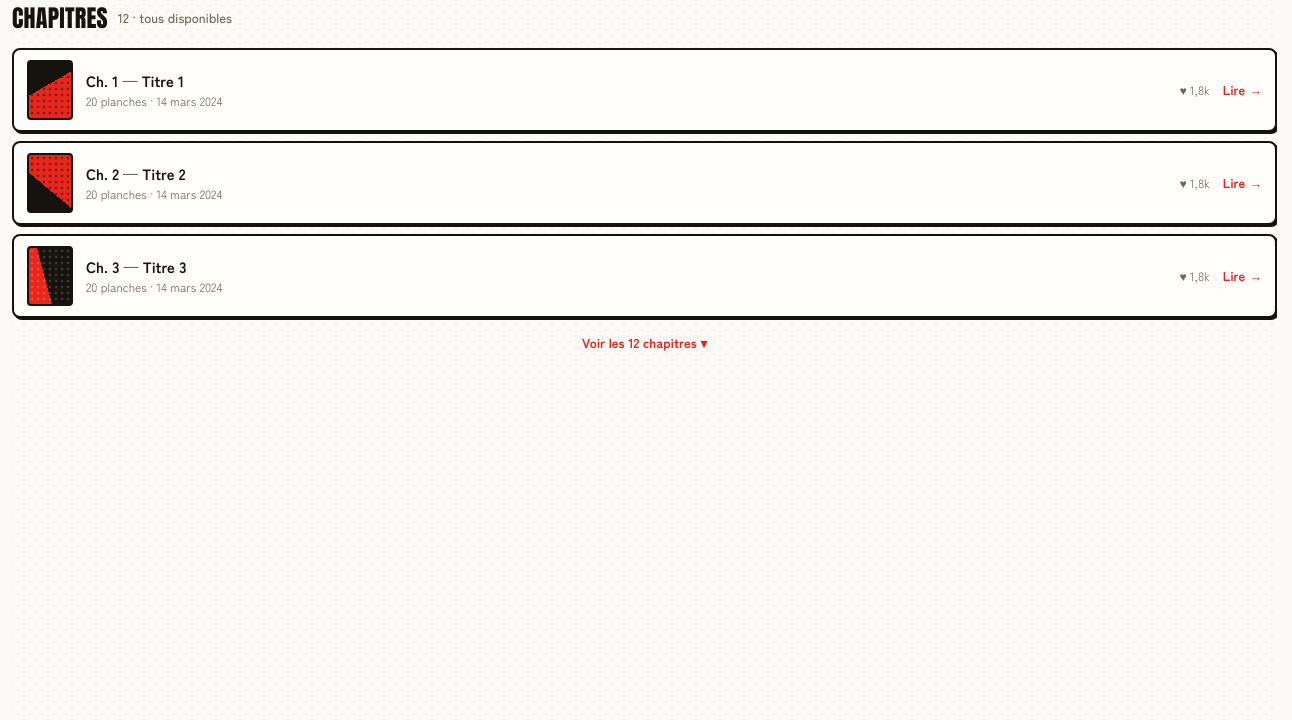
Test case: ChapterList (DR-3 FE-4) › the toggle has aria-expanded, flips, and fetches the next page while expanding
The image size is (1292, 720).
Step 1. Click the button "Voir les 12 chapitres ▾" → (644, 343), box [12,327,1277,358]
(page scrolled)
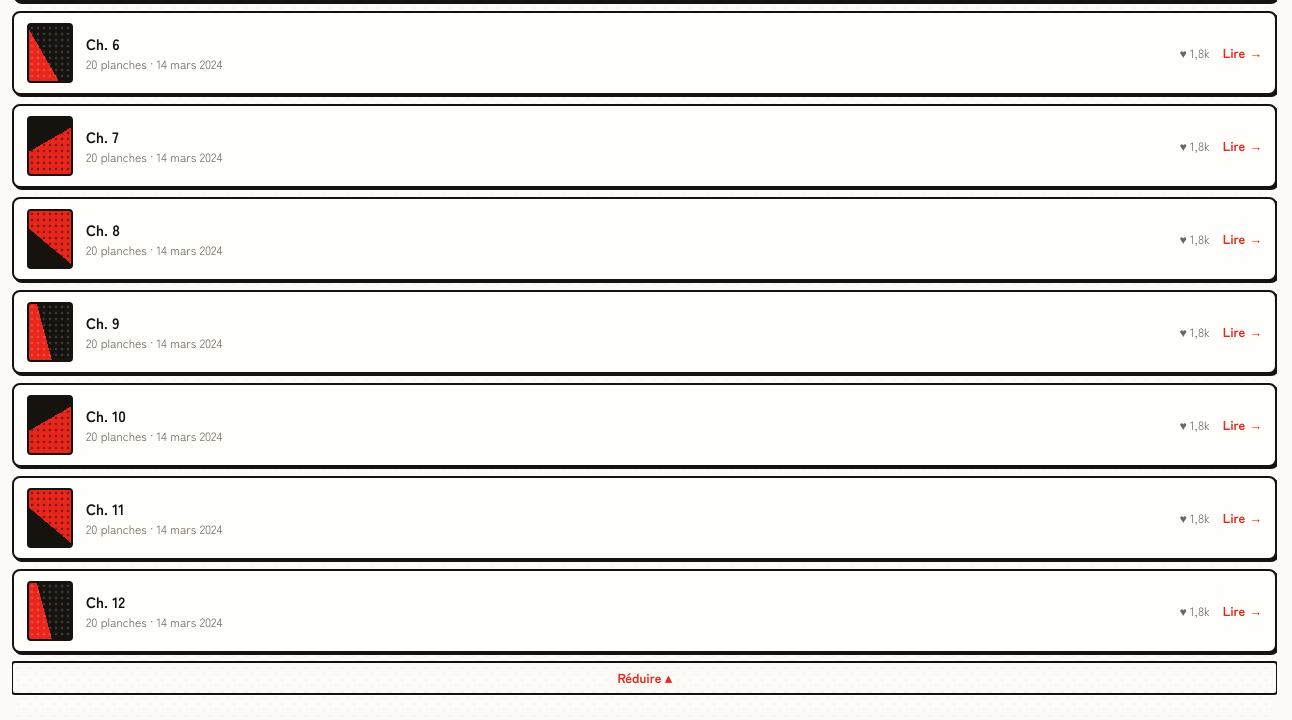
Now the button named "Voir les 12 chapitres ▾" is expanded, box [12,662,1277,694]
Now the text "Ch. 12" is shown, box [86,591,125,612]
